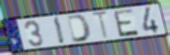3: (24, 19, 44, 48)
4: (142, 5, 160, 35)
D: (66, 14, 92, 44)
E: (112, 8, 141, 39)
I: (53, 16, 67, 46)
T: (91, 10, 110, 41)
